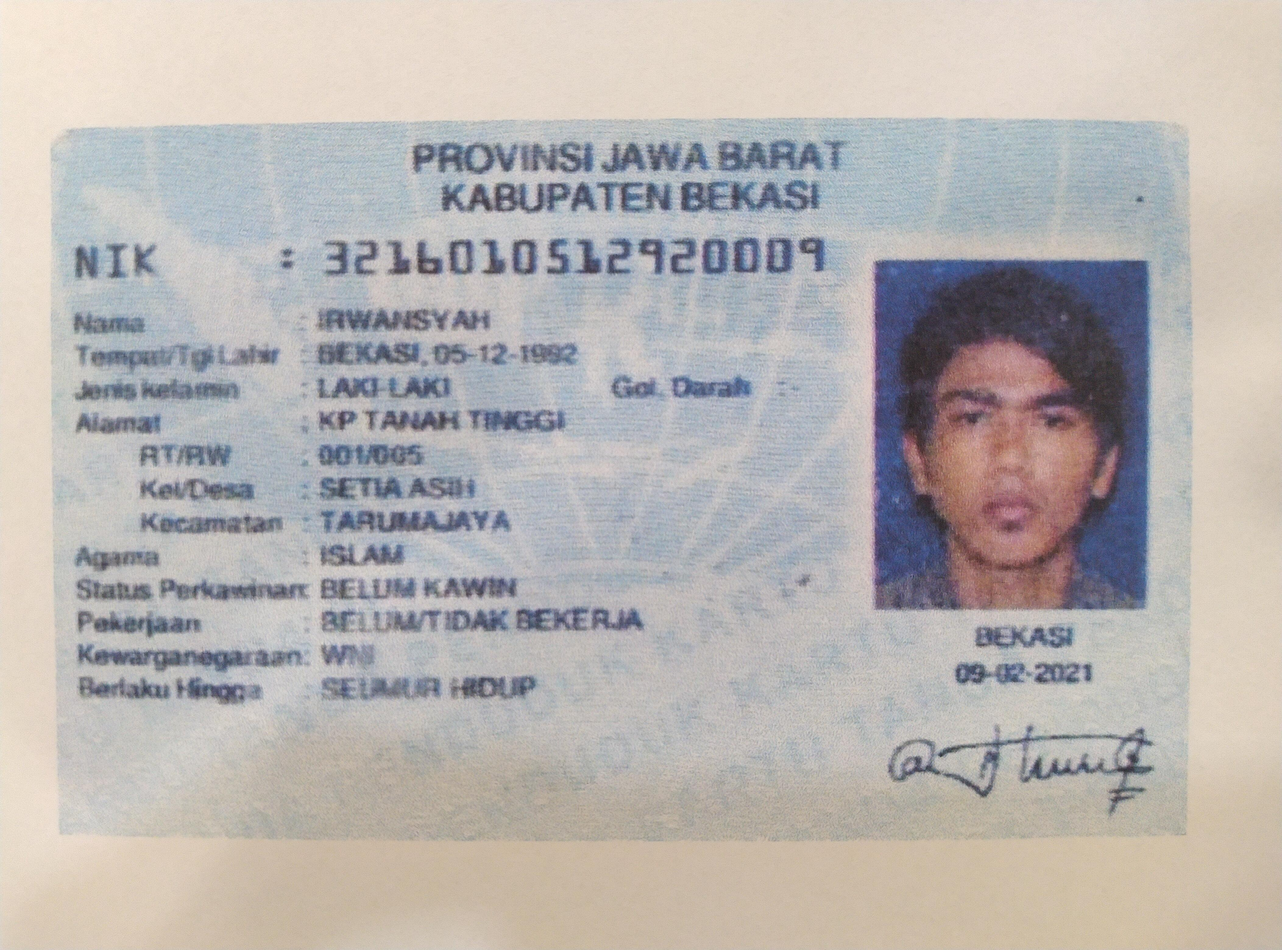ID-card: (58, 124, 1178, 830)
